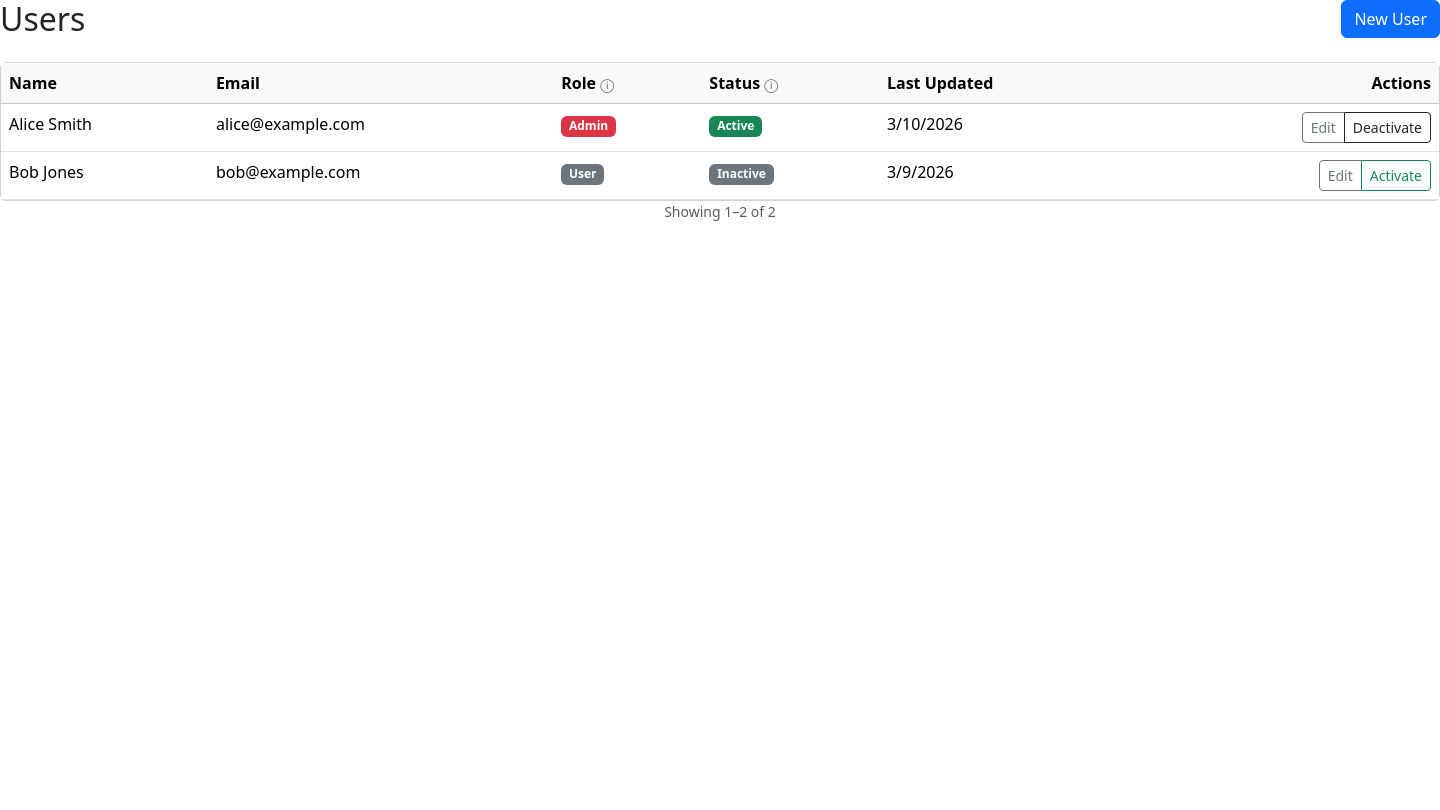
Test: UsersListPage › Actions › opens confirm dialog when Deactivate is clicked
Click the button "Deactivate".
click(1387, 128)  # box 1344,112 -> 1431,143
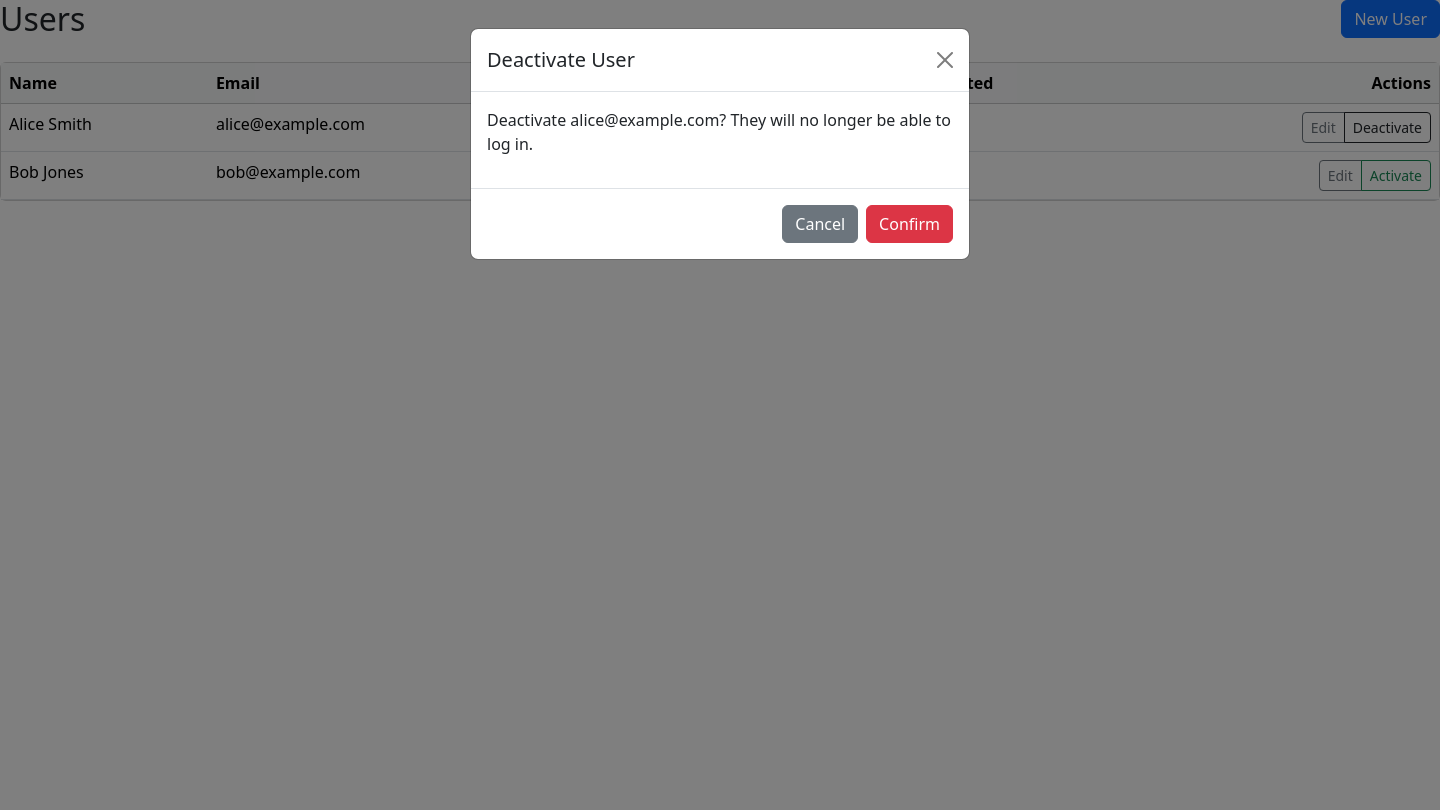
Result: the dialog is shown
Result: the heading "Deactivate User" is shown at 487,45 -> 635,75
